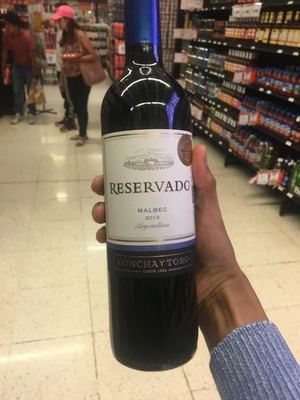reservado malbec: (99, 3, 205, 367)
